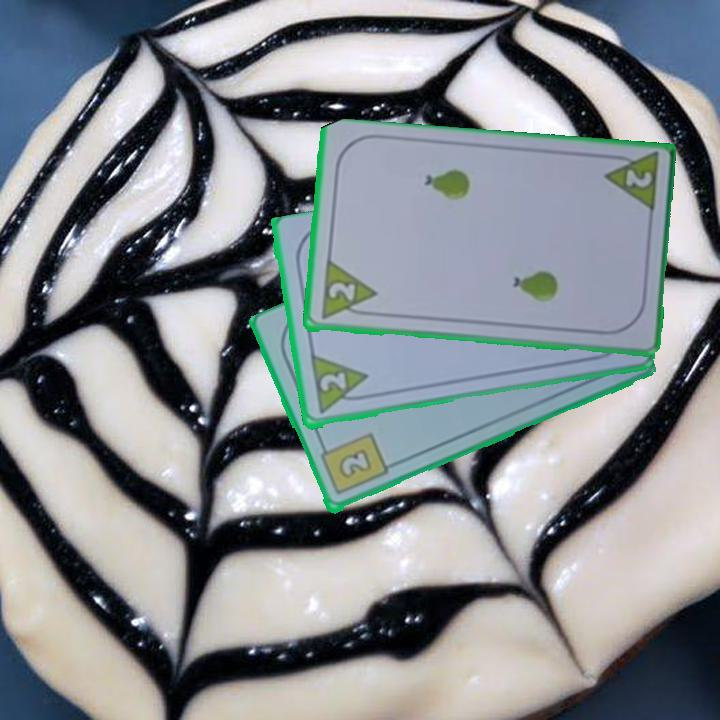2b: (316, 430, 390, 499)
2p: (599, 151, 662, 217), (316, 368, 349, 395), (324, 279, 358, 304)
